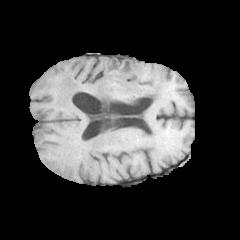glioma: (56, 59, 164, 119)
